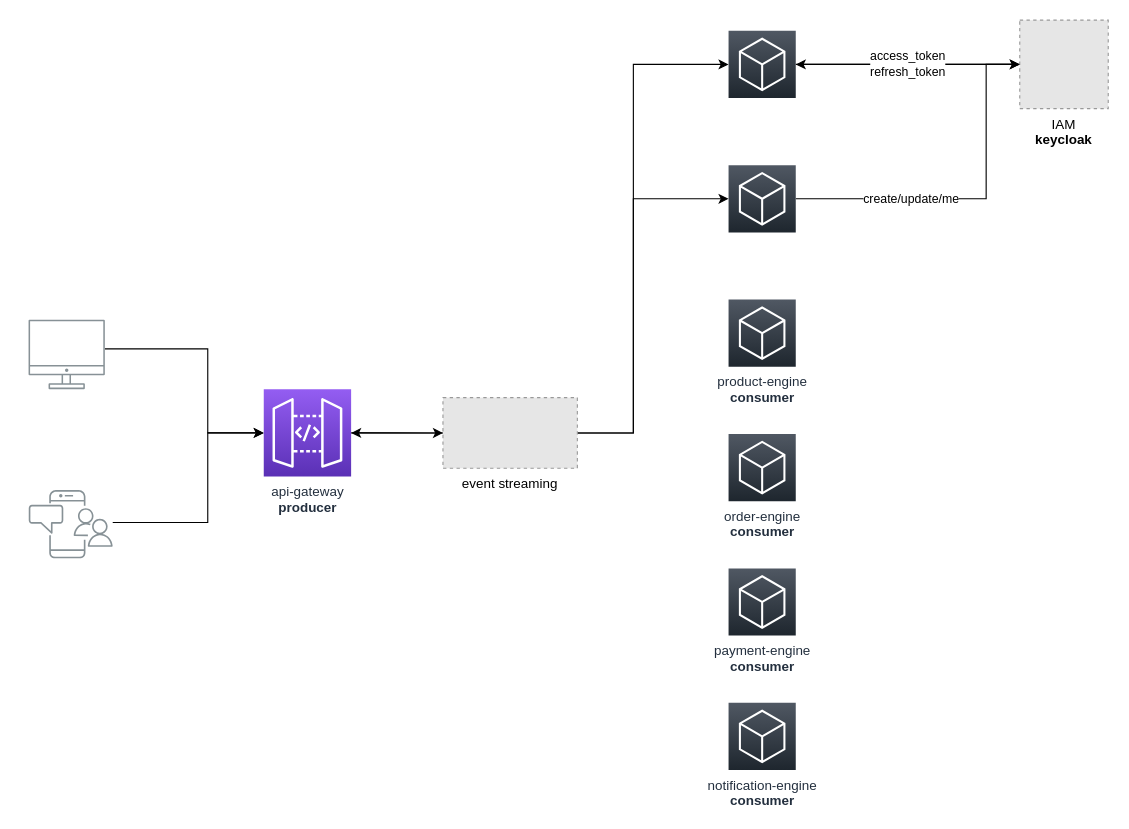
Some shapes in this 1129 by 829 pixel diagram are drawn without their labels. Grey dashed boxes stand in for pictures. Here are the shapes that lost their labels. From the top down, the centre of each, then its label:
At (x=761, y=64): "auth-engine consumer".
At (x=761, y=198): "user-engine consumer".
At (x=66, y=354): "data lake CLI".
At (x=70, y=523): "data lake console".
